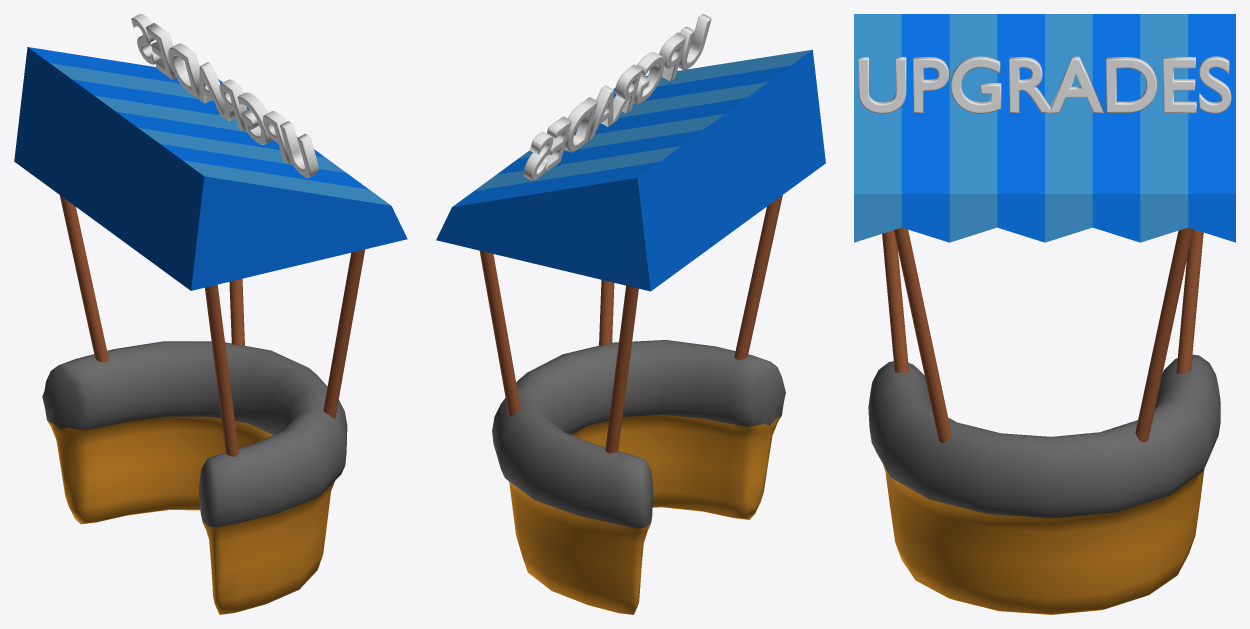
The model's file is Upgrade.fbx.
The picture shows the model from 3 angles, left to right: view 1: azimuth 30°, elevation 25°; view 2: azimuth 150°, elevation 25°; view 3: azimuth 270°, elevation 25°; orthographic projection. The views are drawn at different scales.
Visible parts, largest first — view 1: Torus, Text; view 2: Torus, Text; view 3: Torus, Text.
Part boxes in pixels (<box>): Torus: <box>14,47,407,614</box>; Text: <box>131,14,318,177</box>; Torus: <box>436,49,825,614</box>; Text: <box>523,14,711,180</box>; Torus: <box>854,14,1235,614</box>; Text: <box>858,56,1231,113</box>.
Size of the model in its own units: 0.8501 by 1.73 by 1.15.
